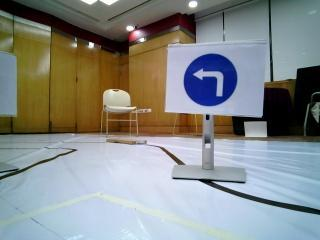left: (171, 48, 258, 118)
